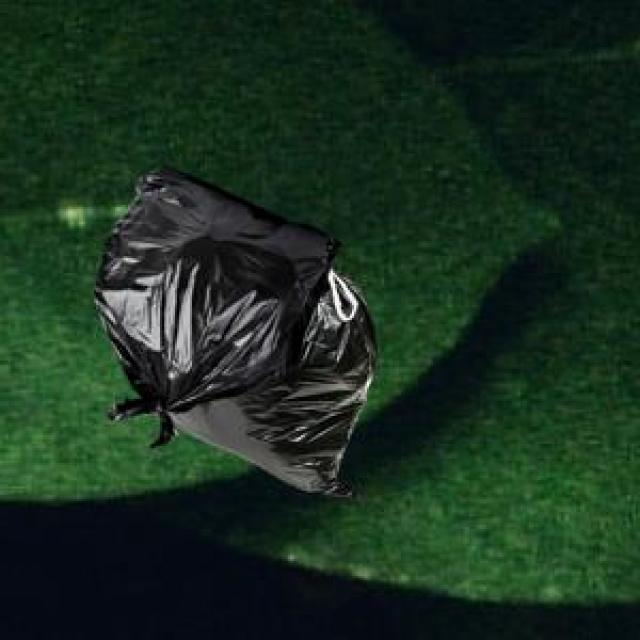Trashbag: (92, 157, 347, 455)
